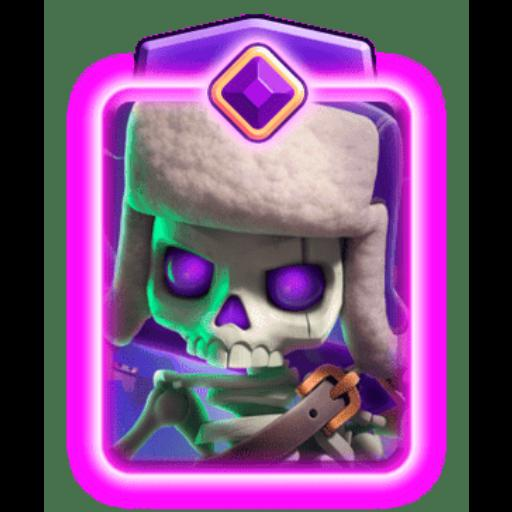skeletons-evo: (98, 105, 408, 457)
